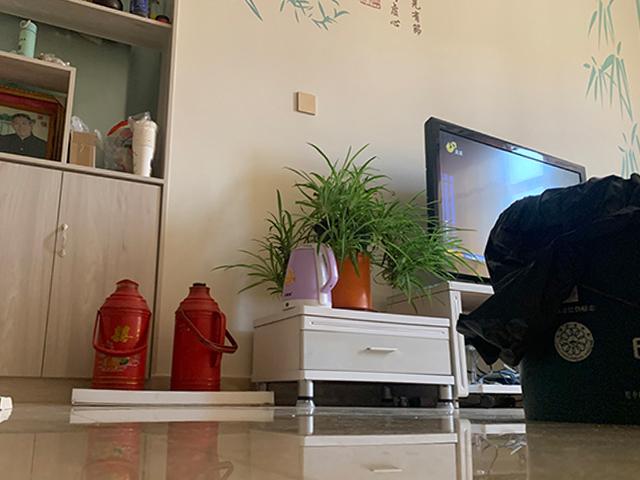cabinet: (1, 156, 164, 407), (248, 281, 474, 410)
